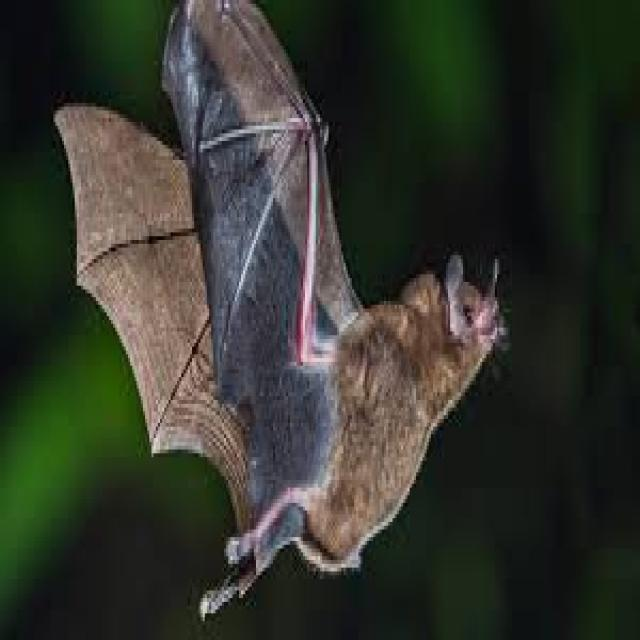Bat: (59, 4, 508, 598)
